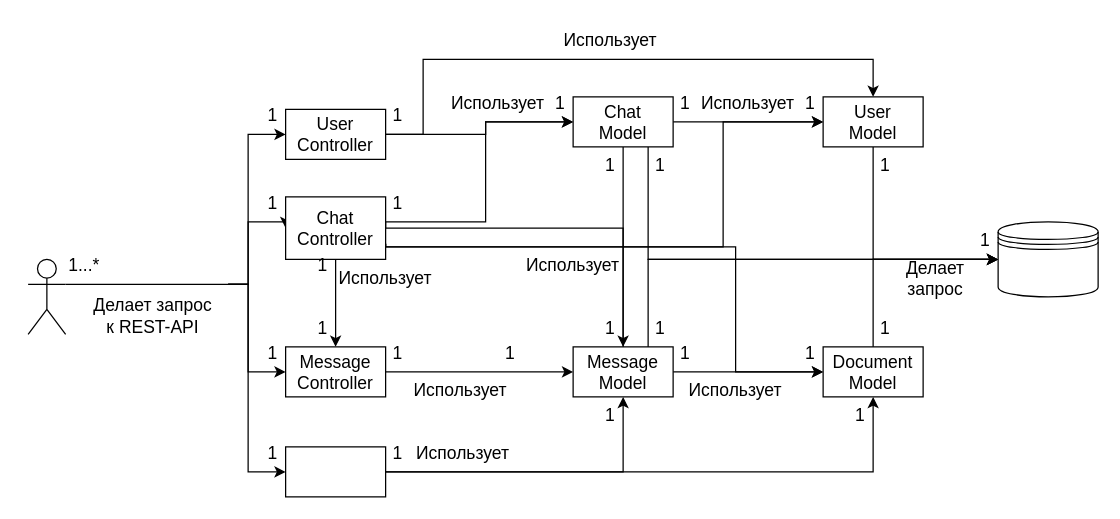
This 1120x519 diagram has some shape labels left out. Each missing label, with the centre of its shape:
"Document Controller" goes at point (335, 471).
"Messanger DB" goes at point (1047, 259).
"Клиент" goes at point (46, 296).
